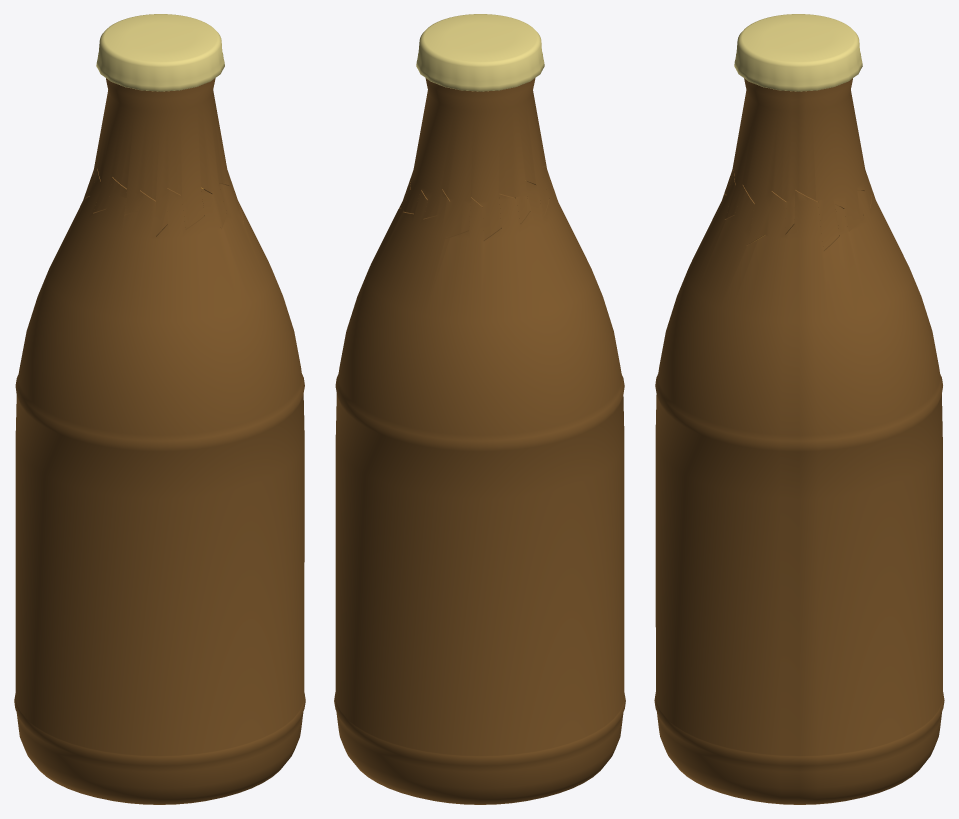
File: bottle_stubby_broken.glb
3 renders of one model, left to right at view 1: azimuth 30°, elevation 25°; view 2: azimuth 150°, elevation 25°; view 3: azimuth 270°, elevation 25°, orthographic.
Parts seen in each view (by area): view 1: Glass.001, Neck, Cap; view 2: Glass.001, Neck, Cap; view 3: Glass.001, Neck, Cap.
Part boxes in pixels (x1,y1,x2,y2): Glass.001: (14,168,305,804); Neck: (85,78,243,235); Cap: (96,14,224,91); Glass.001: (334,166,625,804); Neck: (399,78,552,239); Cap: (416,14,544,91); Glass.001: (654,170,944,804); Neck: (724,78,877,250); Cap: (734,14,862,91).
Size of the model in its own units: 0.0682 by 0.1848 by 0.0678.
